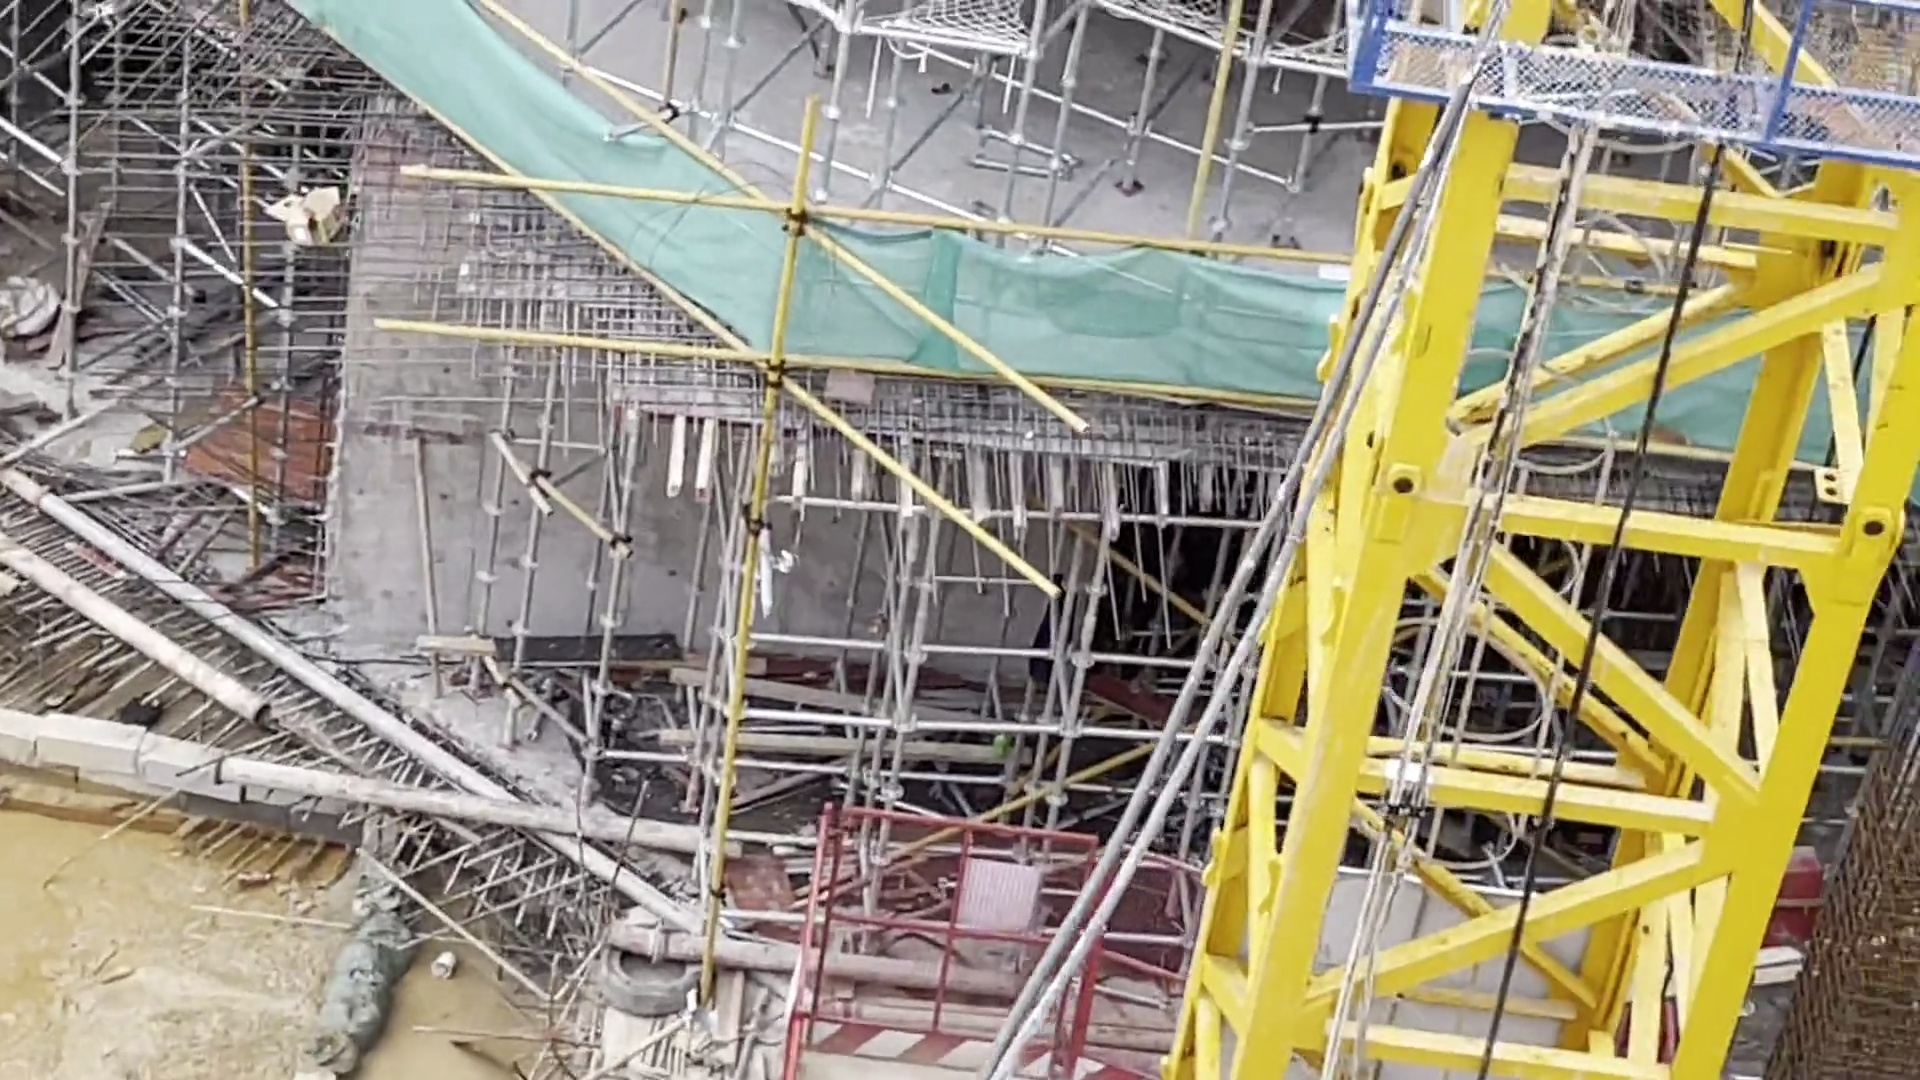fence: (793, 823, 1106, 1065), (773, 827, 877, 1080)
